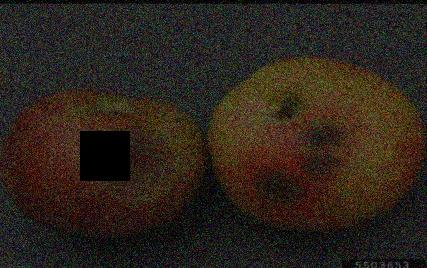rotten apple: (206, 54, 426, 246), (0, 84, 208, 239)
